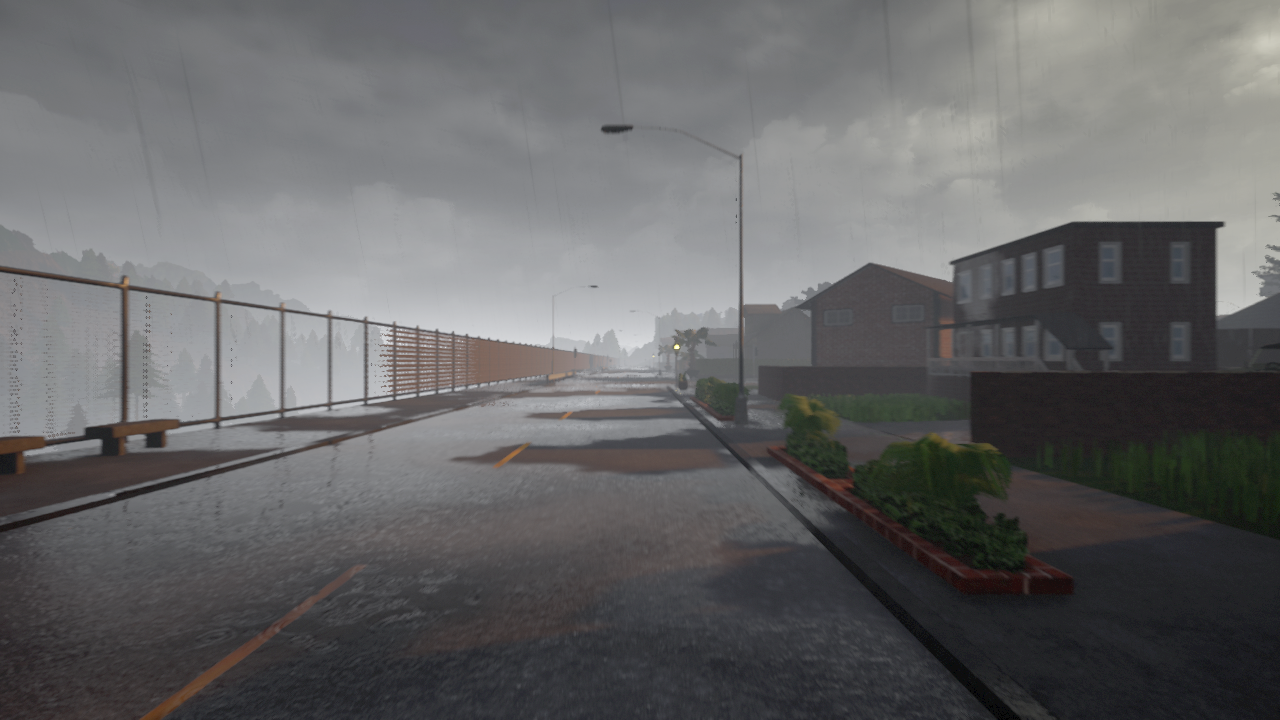yellow: (673, 338, 680, 354)
